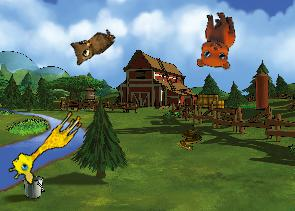bear: (192, 10, 237, 71)
giraffe: (4, 101, 86, 189)
owl: (64, 18, 117, 69)
